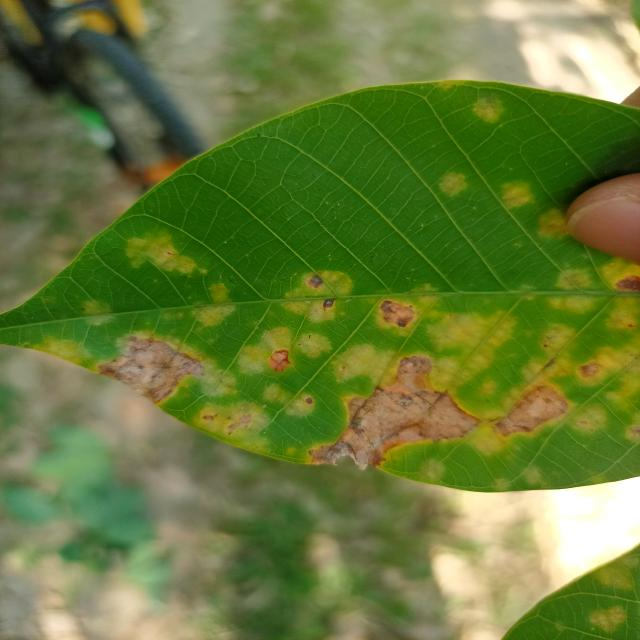Leaf-Blight: (308, 353, 481, 470), (95, 337, 203, 404), (493, 386, 570, 436), (381, 300, 414, 327)
